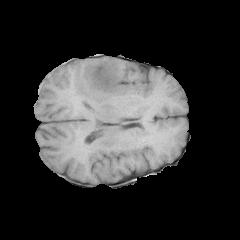glioma: (73, 65, 123, 105)
